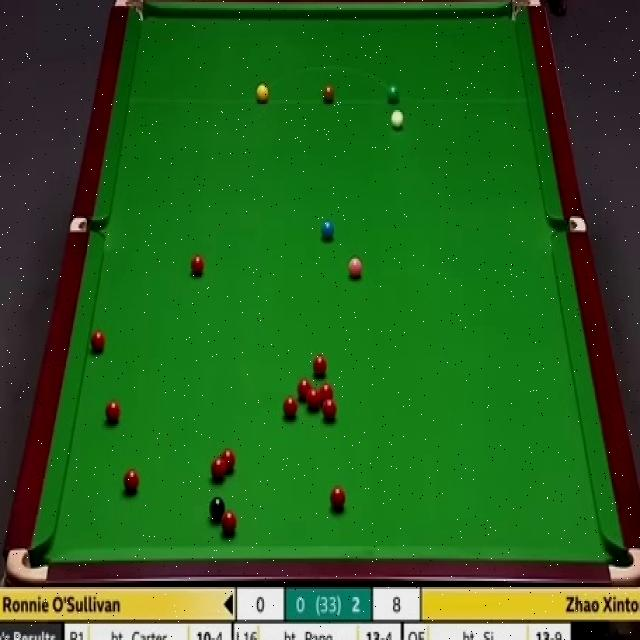black-ball: (210, 496, 228, 519)
blue-ball: (320, 218, 334, 244)
brown-ball: (322, 83, 335, 103)
green-ball: (387, 84, 400, 103)
pink-ball: (348, 259, 363, 281)
red-ball: (328, 482, 347, 514), (119, 467, 139, 494), (89, 329, 108, 356), (102, 397, 120, 424), (310, 354, 330, 377), (210, 456, 228, 481), (296, 376, 313, 401), (319, 384, 335, 407), (222, 449, 238, 472), (222, 511, 236, 537), (306, 389, 322, 410), (283, 394, 297, 417), (190, 257, 205, 275), (323, 398, 336, 418)
white-ball: (391, 107, 403, 129)
yellow-ball: (255, 83, 269, 103)
